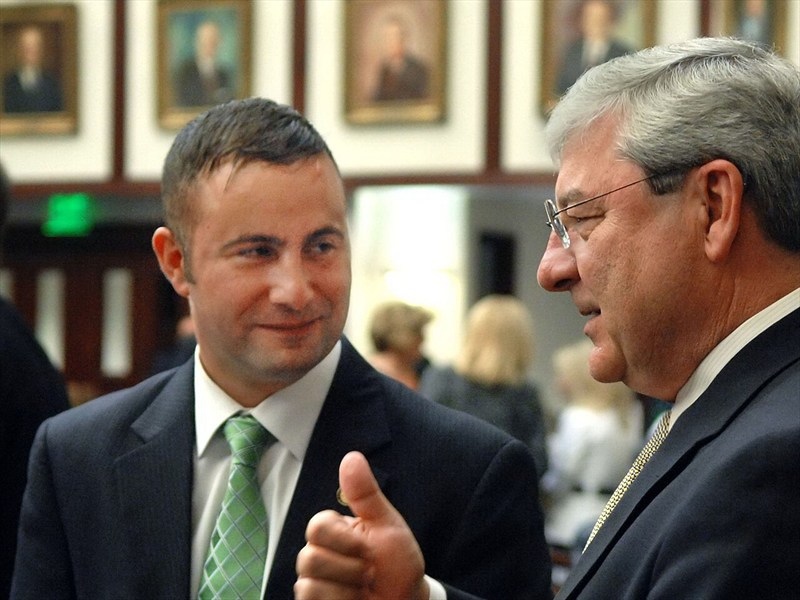Soto Ayam: (62, 12, 713, 546)
